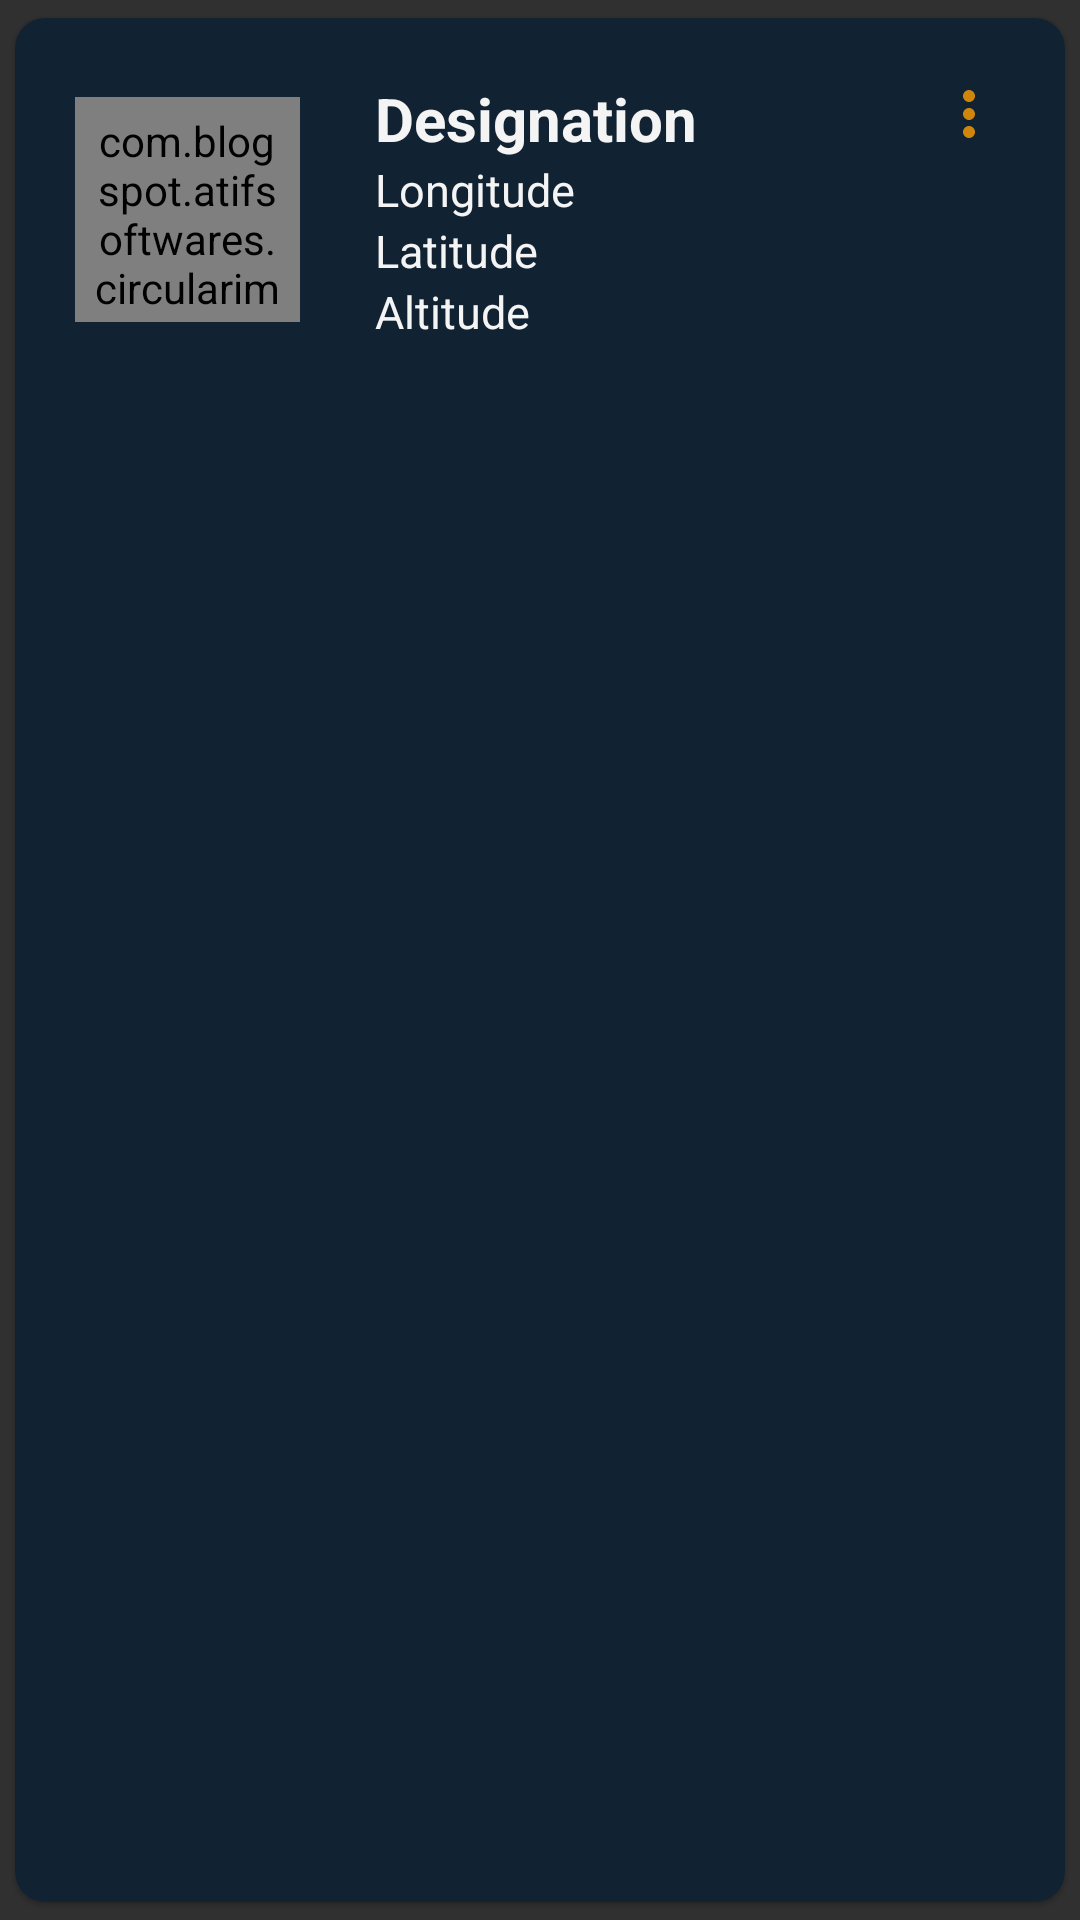

Screen size 1080 x 1920. Icon name, then its center in pixels as (x=x, y=y):
more: (x=969, y=114)
